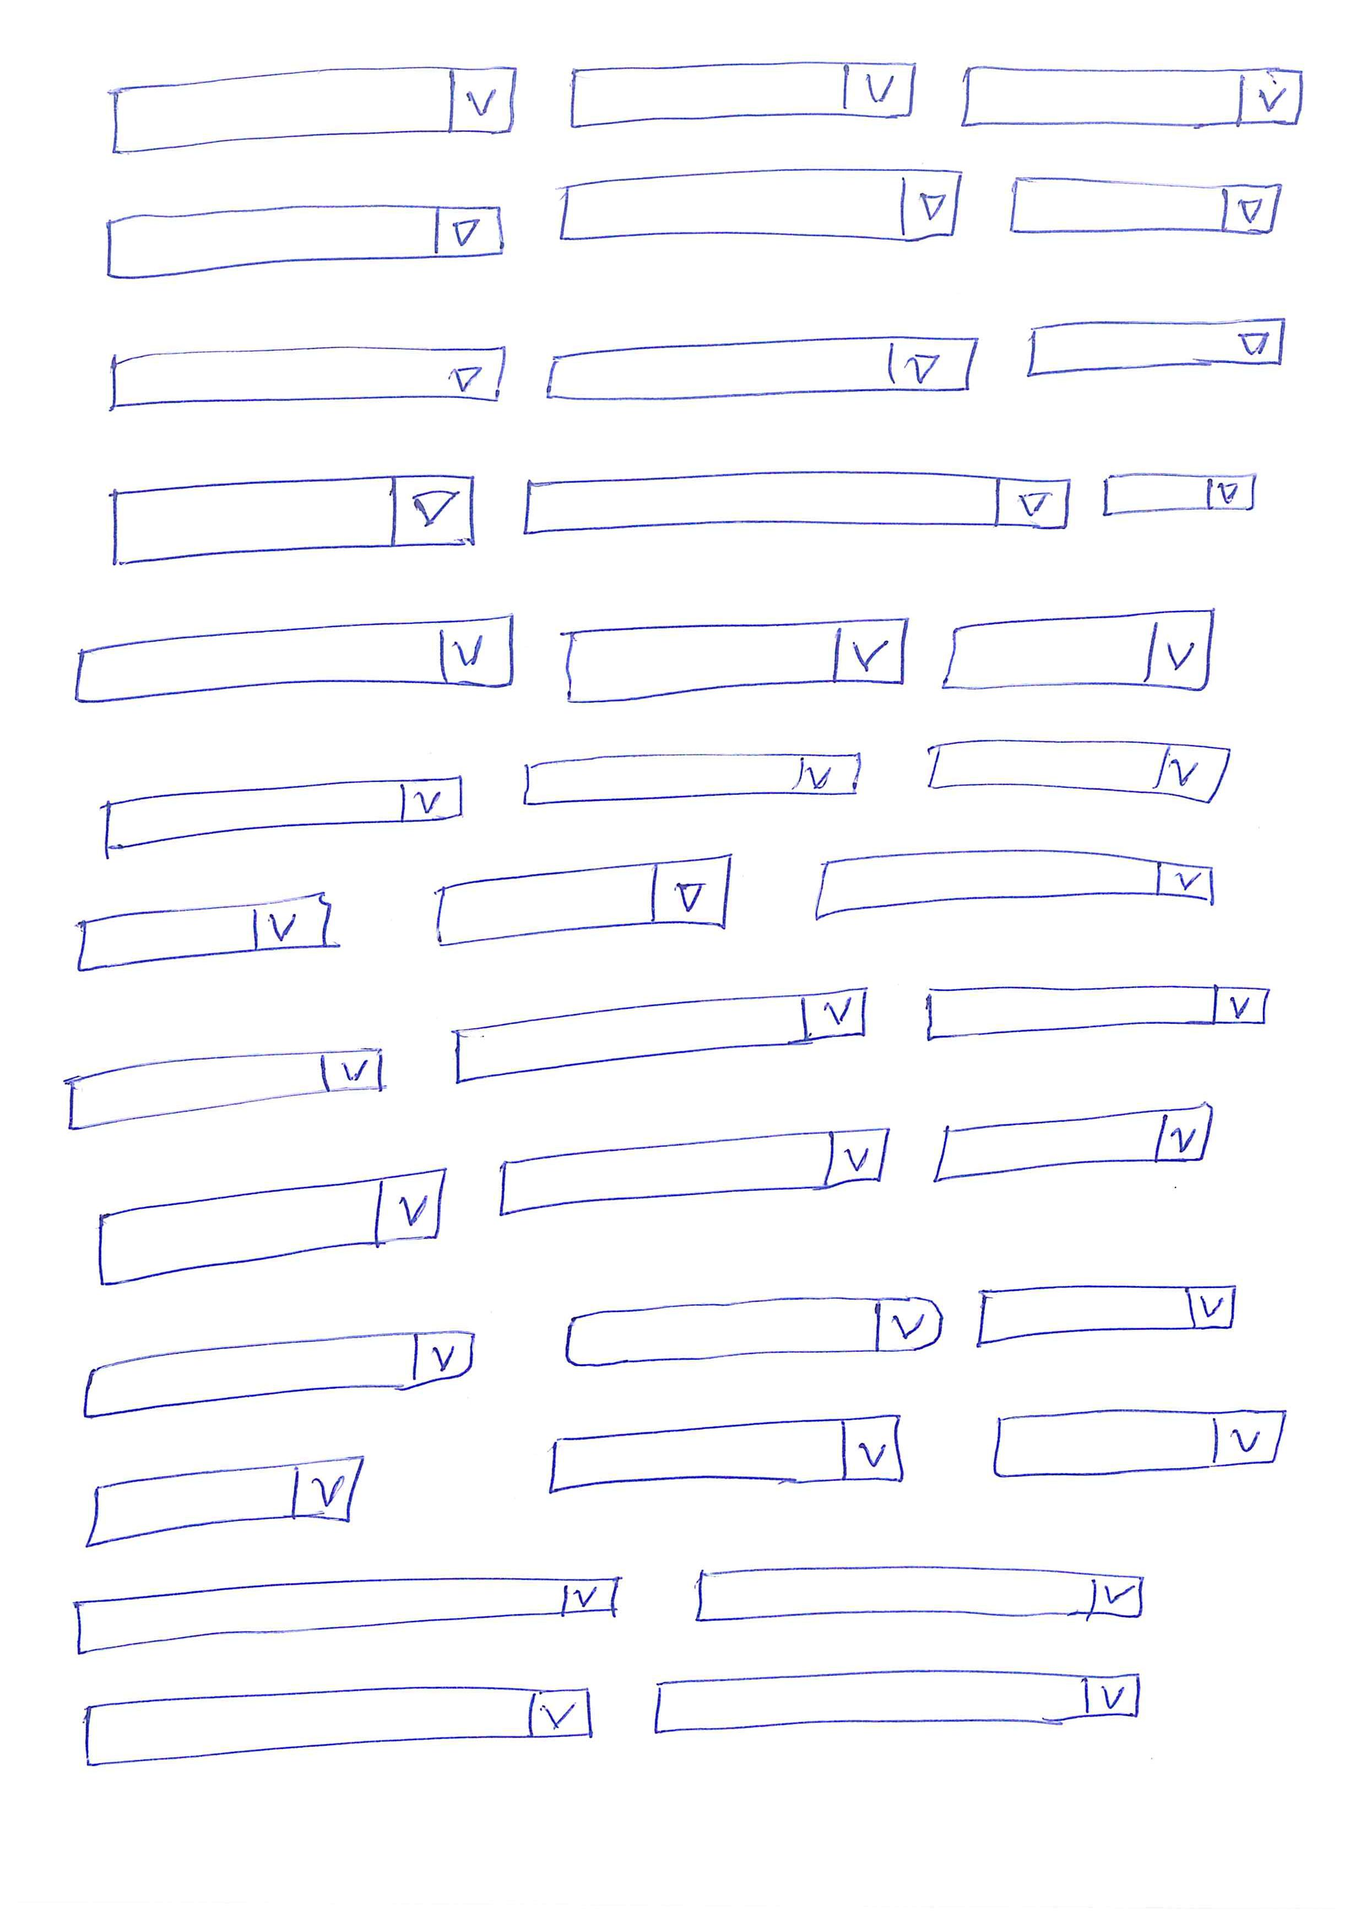Select: (81, 1677, 594, 1771), (71, 1572, 621, 1657), (96, 1162, 446, 1283), (451, 986, 871, 1087), (71, 612, 517, 704), (109, 61, 517, 160), (520, 467, 1072, 537), (106, 469, 478, 566), (497, 1124, 891, 1215), (81, 1329, 478, 1419), (649, 1666, 1141, 1737), (102, 203, 506, 285), (562, 614, 911, 707), (554, 166, 962, 244), (544, 331, 982, 404), (544, 1411, 909, 1496), (812, 847, 1214, 923), (101, 776, 464, 859), (106, 339, 507, 411), (64, 1045, 387, 1134), (560, 1294, 948, 1368), (432, 855, 733, 946), (692, 1564, 1146, 1623), (81, 1456, 361, 1550), (566, 59, 917, 132), (959, 61, 1307, 132), (990, 1405, 1289, 1482), (942, 609, 1214, 692), (931, 1102, 1212, 1181), (74, 889, 334, 974), (921, 982, 1271, 1044), (520, 750, 862, 807), (925, 739, 1231, 801), (1022, 313, 1286, 381), (974, 1280, 1242, 1347), (1005, 174, 1282, 237), (1097, 469, 1264, 519)
